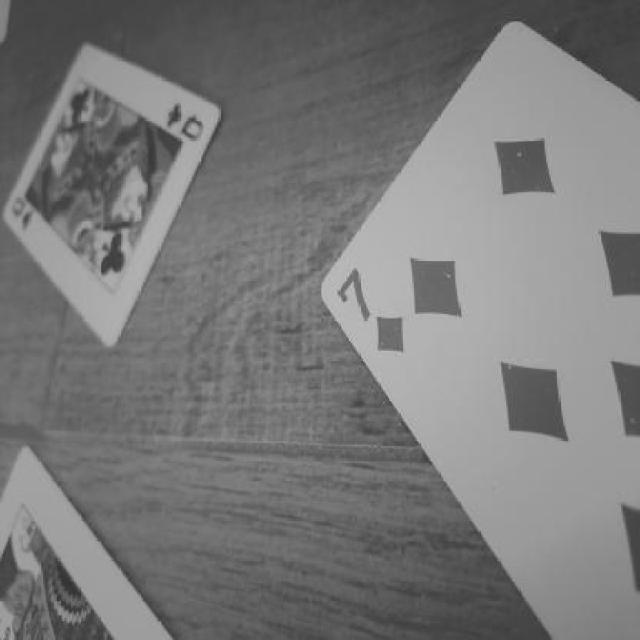7D: (312, 266, 414, 369)
QC: (152, 87, 212, 151)
